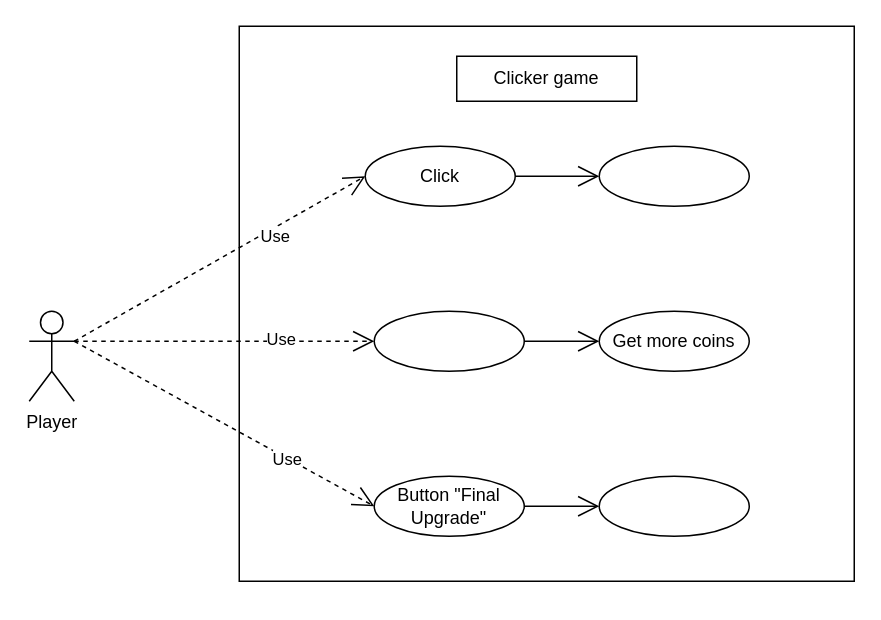
Some shapes in this 881 by 620 pixel diagram are drawn without their labels. The shapes that lost their labels are listed below. From the top down, each one's centre as x and y in pixels, then its label:
the point at 673,175: Earn coins
the point at 448,340: Upgrade
the point at 673,505: Finish the game
